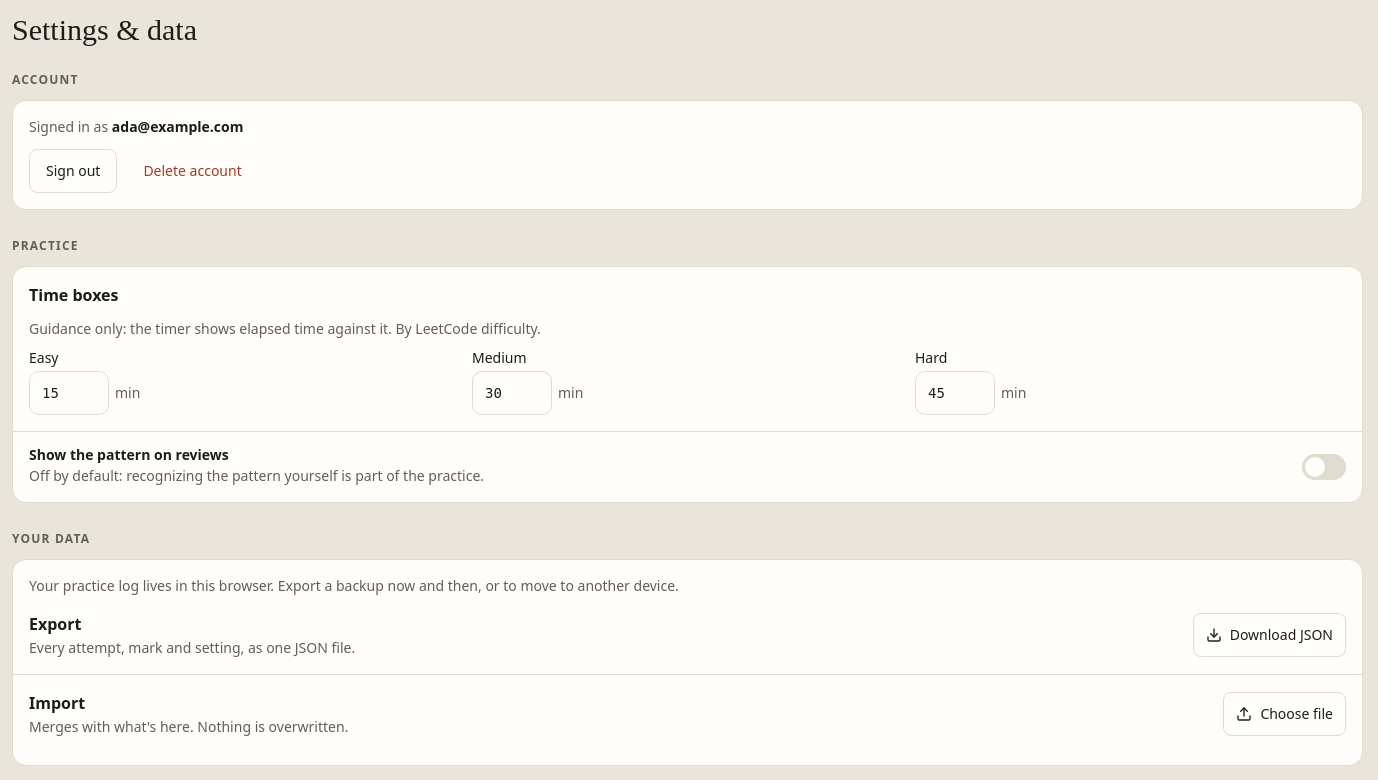
Test: SettingsPage account › signs out and leaves the local log untouched
Click the button "Sign out" at {"x": 73, "y": 171}, box x1=29 y1=149 x2=117 y2=193
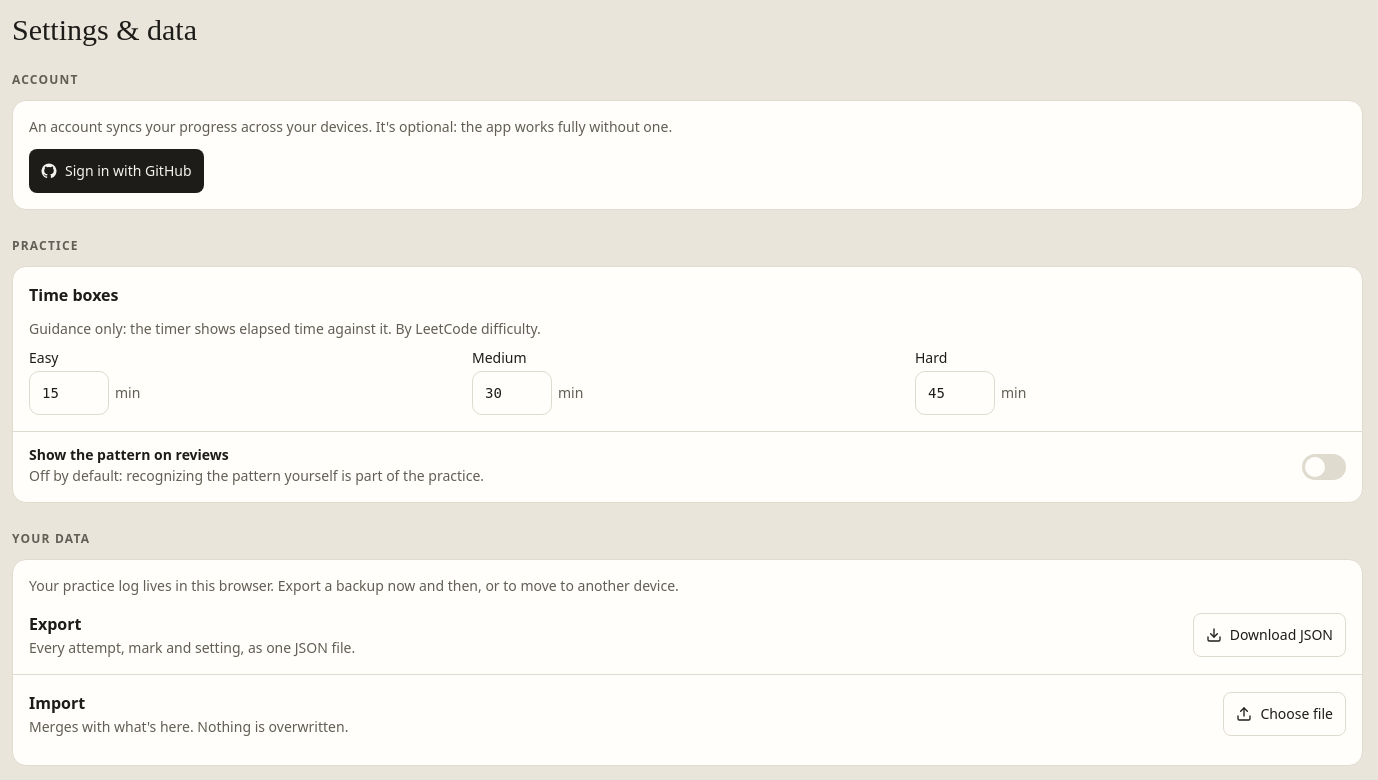
Expected: the button "Sign in with GitHub" is shown, x1=29 y1=149 x2=204 y2=193
